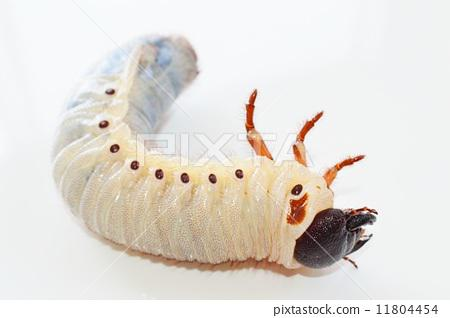grub: (47, 31, 381, 276)
